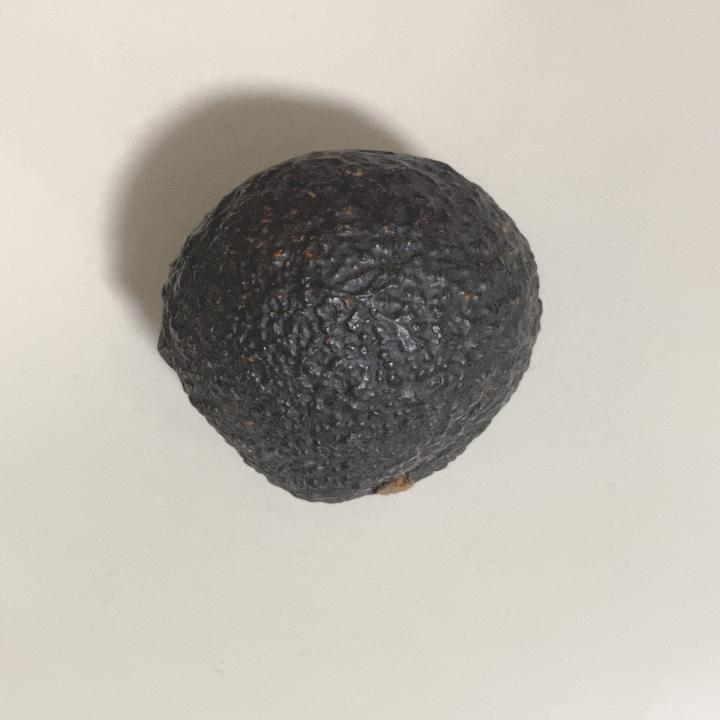Level3: (148, 142, 558, 518)
